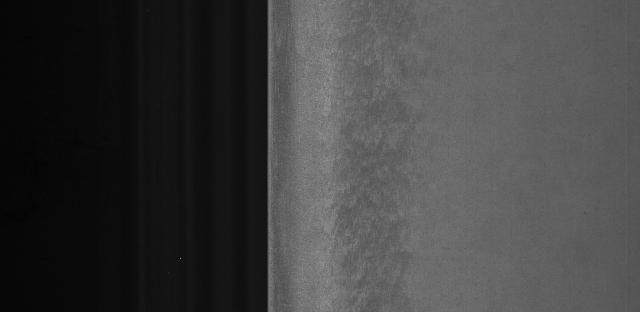silk_spot: (331, 22, 423, 289)
